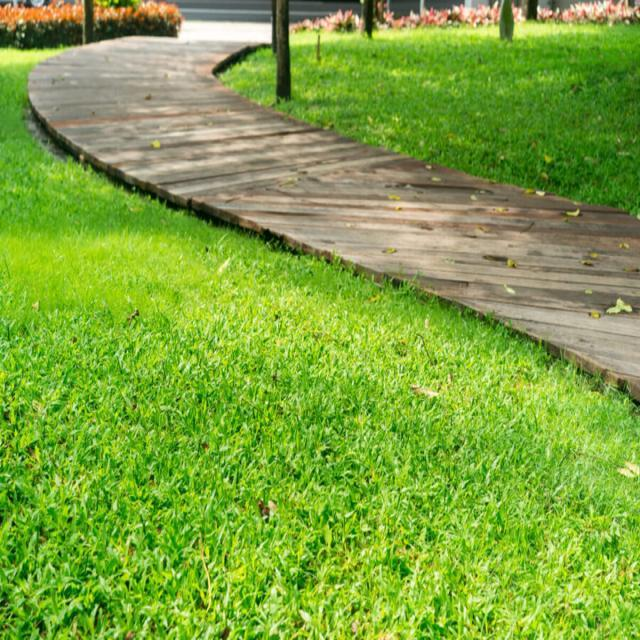lawn: (0, 49, 640, 640), (277, 24, 640, 216), (220, 49, 275, 106)
